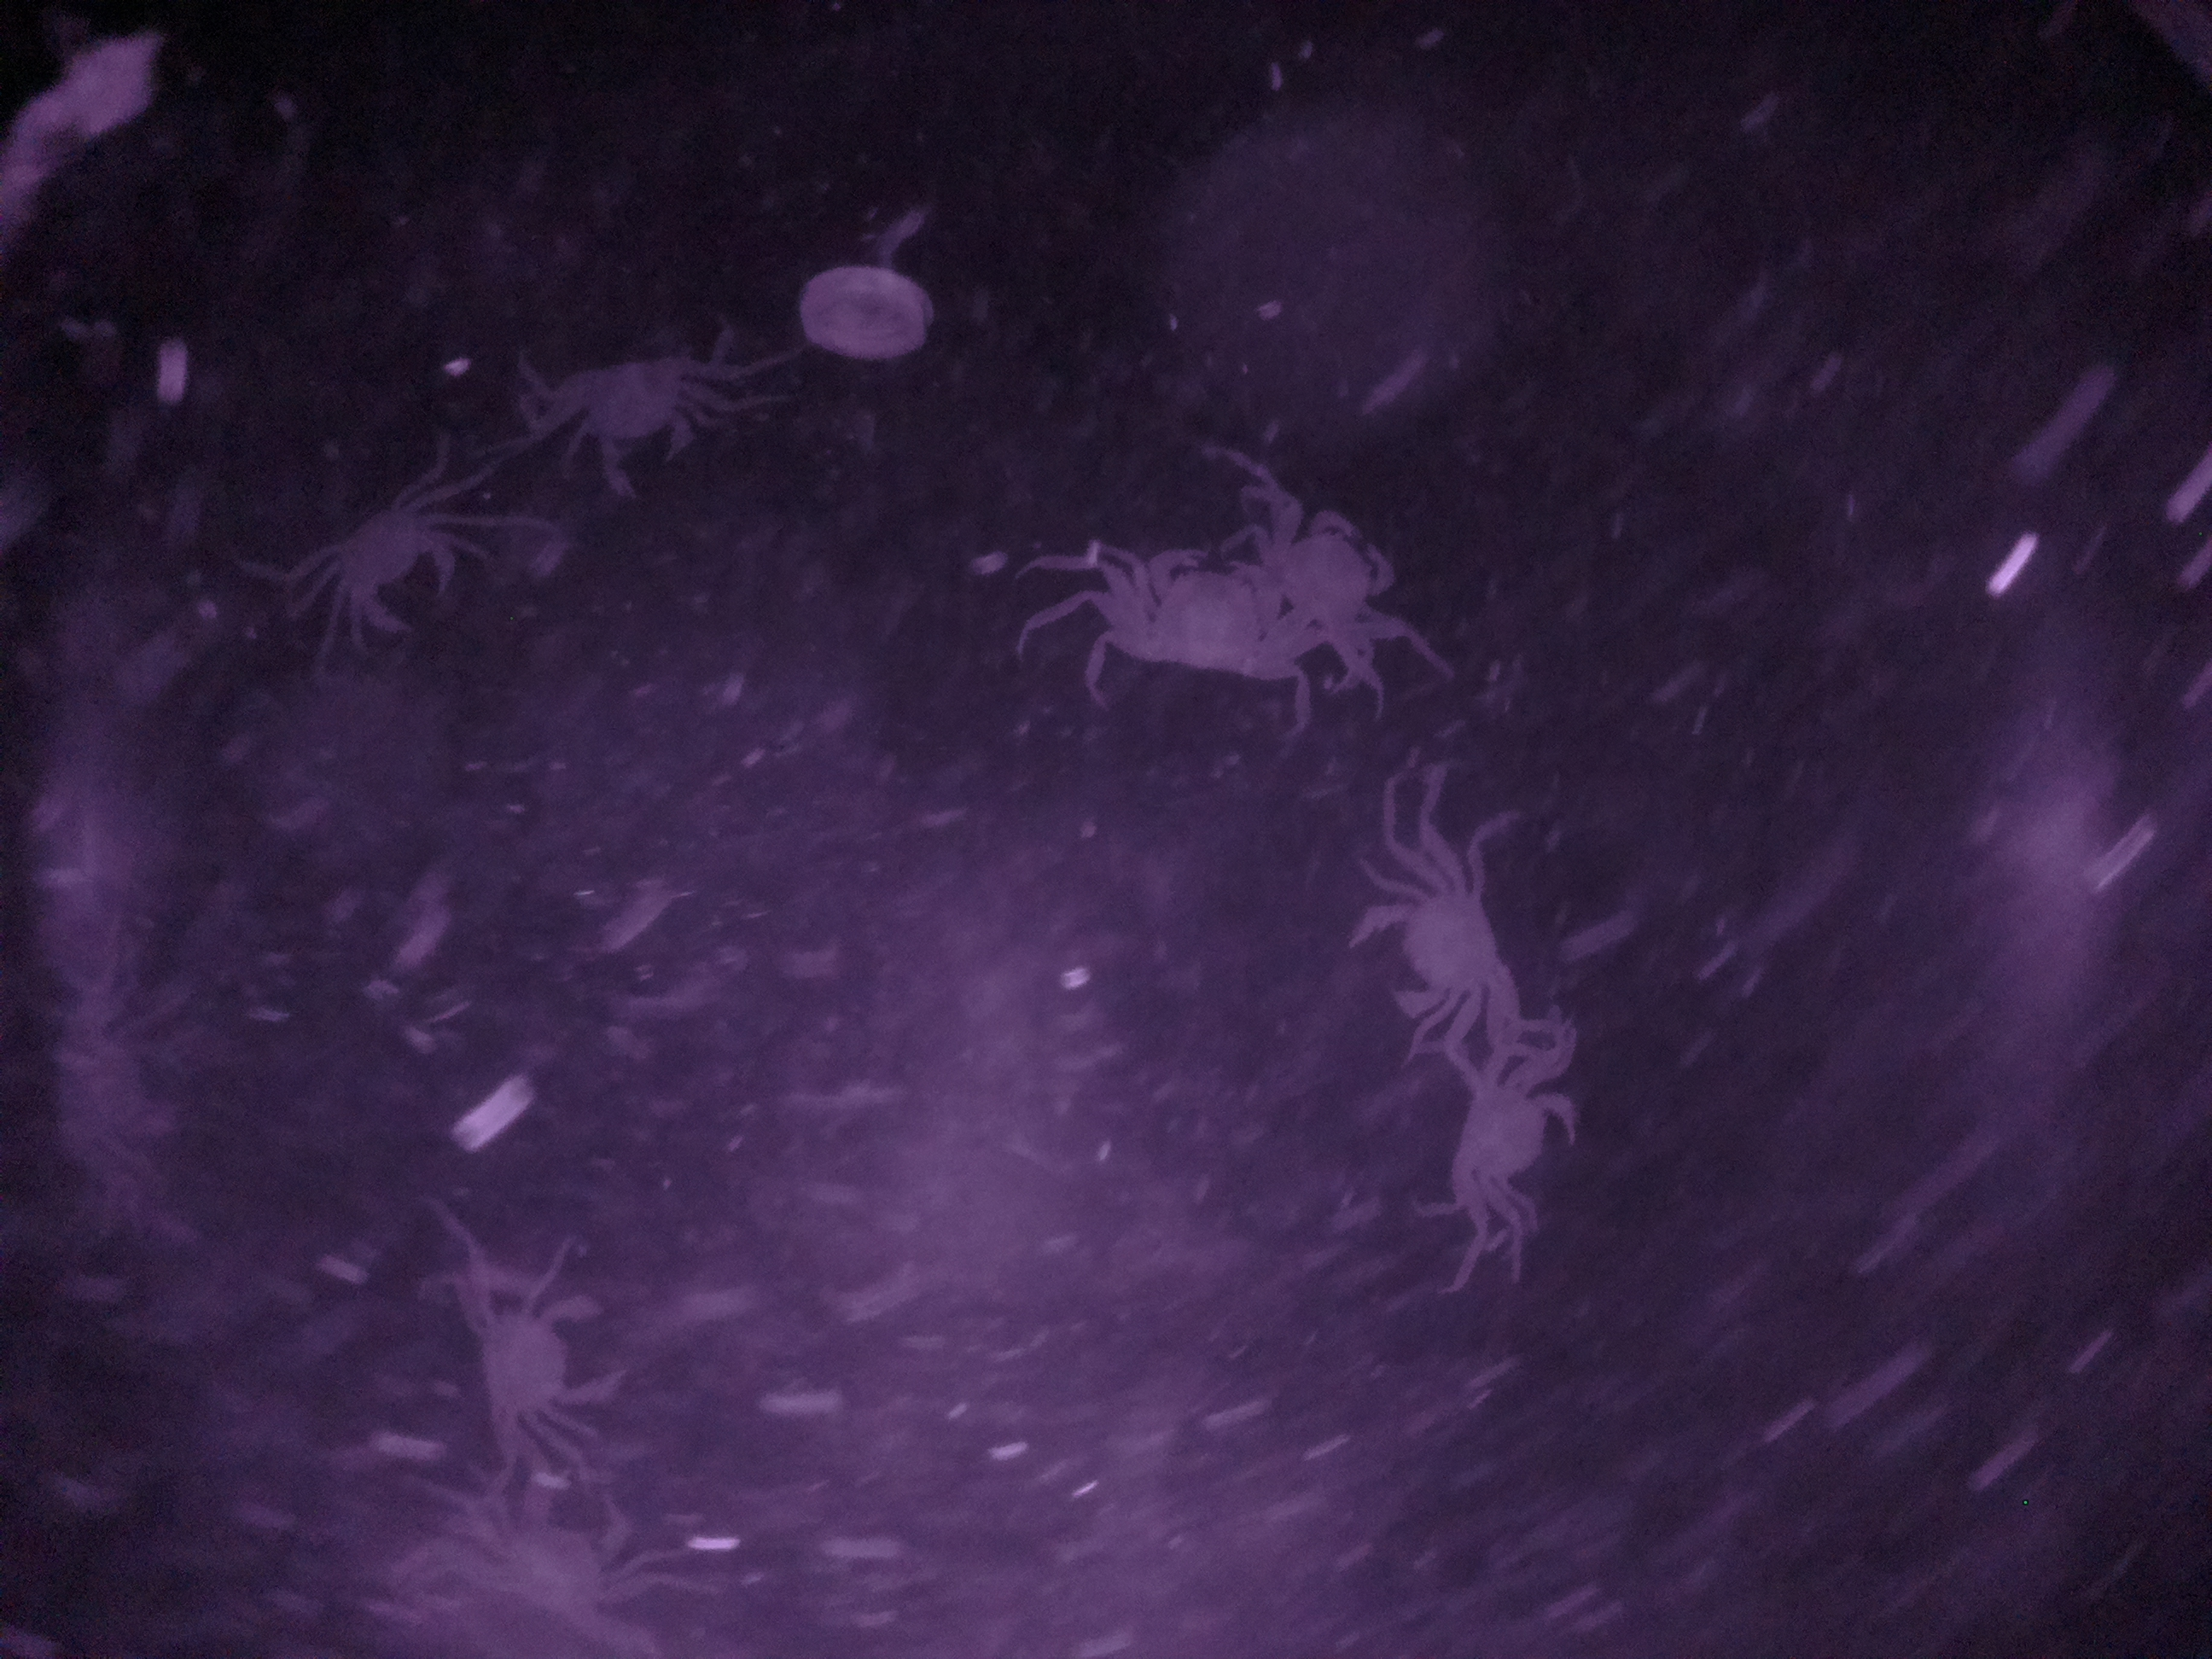Crab: (1334, 829, 1547, 1051), (435, 1253, 650, 1464), (1097, 528, 1318, 728), (279, 486, 509, 655), (1407, 1051, 1602, 1244), (538, 331, 749, 507)
